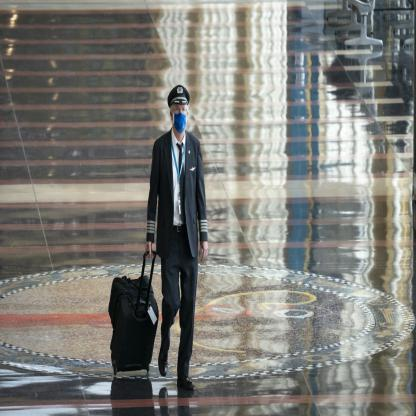Wearing_Mask: (171, 101, 187, 131)
